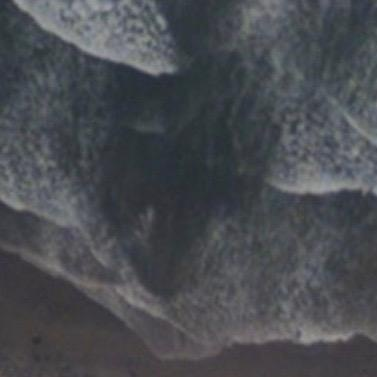rip_current: (101, 32, 288, 304)
